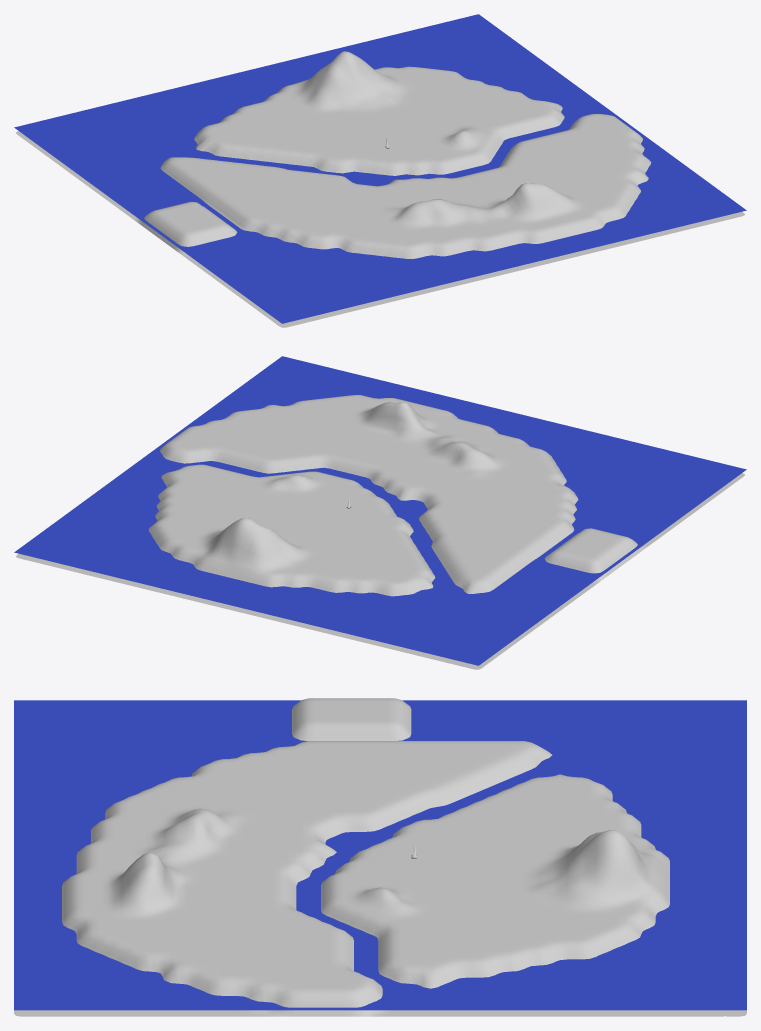
File: seoul_v2.obj
The picture shows the model from 3 angles, top to bottom: view 1: azimuth 30°, elevation 25°; view 2: azimuth 150°, elevation 25°; view 3: azimuth 270°, elevation 25°; orthographic projection. The views are drawn at different scales.
Visible parts, largest first — view 1: land_Plane.002, water_Plane; view 2: land_Plane.002, water_Plane; view 3: land_Plane.002, water_Plane.
Part boxes in pixels (left/top/right/bottom): land_Plane.002: left=16, top=51, right=744, bottom=327; water_Plane: left=14, top=14, right=746, bottom=323; land_Plane.002: left=16, top=395, right=744, bottom=669; water_Plane: left=14, top=356, right=746, bottom=665; land_Plane.002: left=14, top=698, right=746, bottom=1016; water_Plane: left=14, top=700, right=746, bottom=1010.
Bounding box in the file's own units: 20 × 1.94 × 20.
